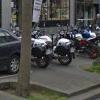Motorcycle: (36, 24, 91, 72)
